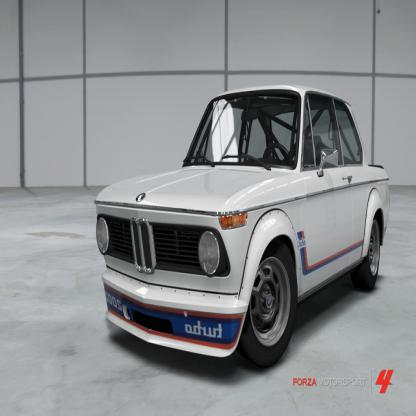Car: (94, 84, 390, 368)
